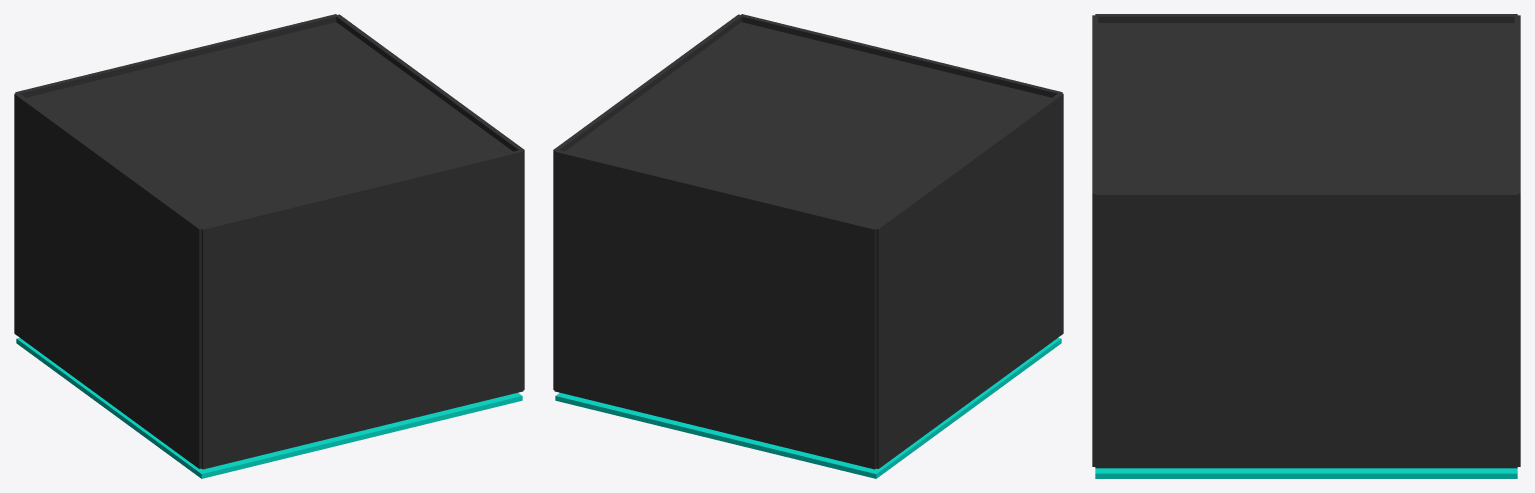
Rendered from shooter.fbx.
3 renders of one model, left to right at view 1: azimuth 30°, elevation 25°; view 2: azimuth 150°, elevation 25°; view 3: azimuth 270°, elevation 25°, orthographic. The views are drawn at different scales.
Parts seen in each view (by area): view 1: Cube.004, Cube.006, Cube.002, Cube.005, Cube.003, Cube.001; view 2: Cube.003, Cube.006, Cube.002, Cube.005, Cube.004, Cube.001; view 3: Cube.001, Cube.006, Cube.005, Cube.002, Cube.003, Cube.004.
Boxes of the visible parts, left/top/right/bottom form: Cube.004: left=201, top=150, right=523, bottom=469; Cube.006: left=26, top=22, right=512, bottom=226; Cube.002: left=14, top=93, right=203, bottom=468; Cube.005: left=16, top=338, right=522, bottom=478; Cube.003: left=15, top=14, right=337, bottom=97; Cube.001: left=336, top=14, right=524, bottom=389; Cube.003: left=554, top=149, right=877, bottom=469; Cube.006: left=565, top=22, right=1051, bottom=226; Cube.002: left=875, top=92, right=1063, bottom=468; Cube.005: left=555, top=338, right=1061, bottom=478; Cube.004: left=741, top=14, right=1062, bottom=97; Cube.001: left=553, top=14, right=742, bottom=389; Cube.001: left=1095, top=192, right=1517, bottom=468; Cube.006: left=1098, top=23, right=1514, bottom=192; Cube.005: left=1095, top=468, right=1517, bottom=478; Cube.002: left=1095, top=14, right=1517, bottom=22; Cube.003: left=1514, top=15, right=1520, bottom=466; Cube.004: left=1092, top=15, right=1098, bottom=466.
Size of the model in its own units: 4260 by 3130 by 4260.
